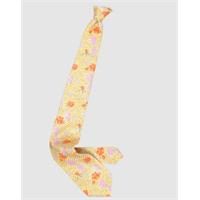tie: (48, 6, 124, 196)
